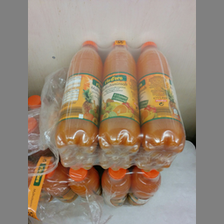juice: (138, 39, 184, 152), (60, 38, 101, 148), (101, 37, 139, 151)
